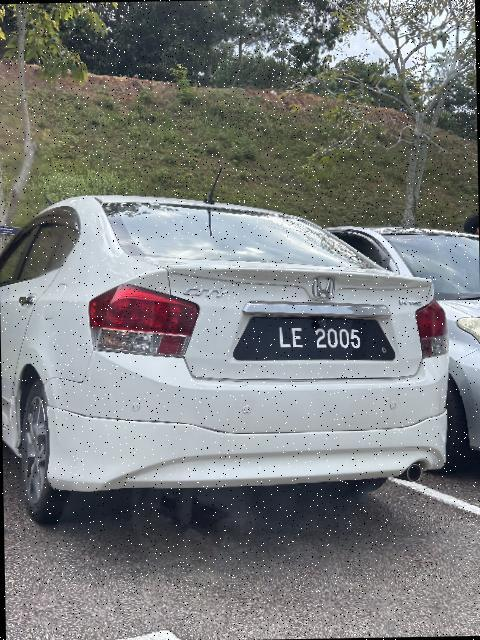LE2005: (257, 319, 375, 358)
License_Plate: (257, 319, 375, 358)
car: (1, 185, 460, 527)
